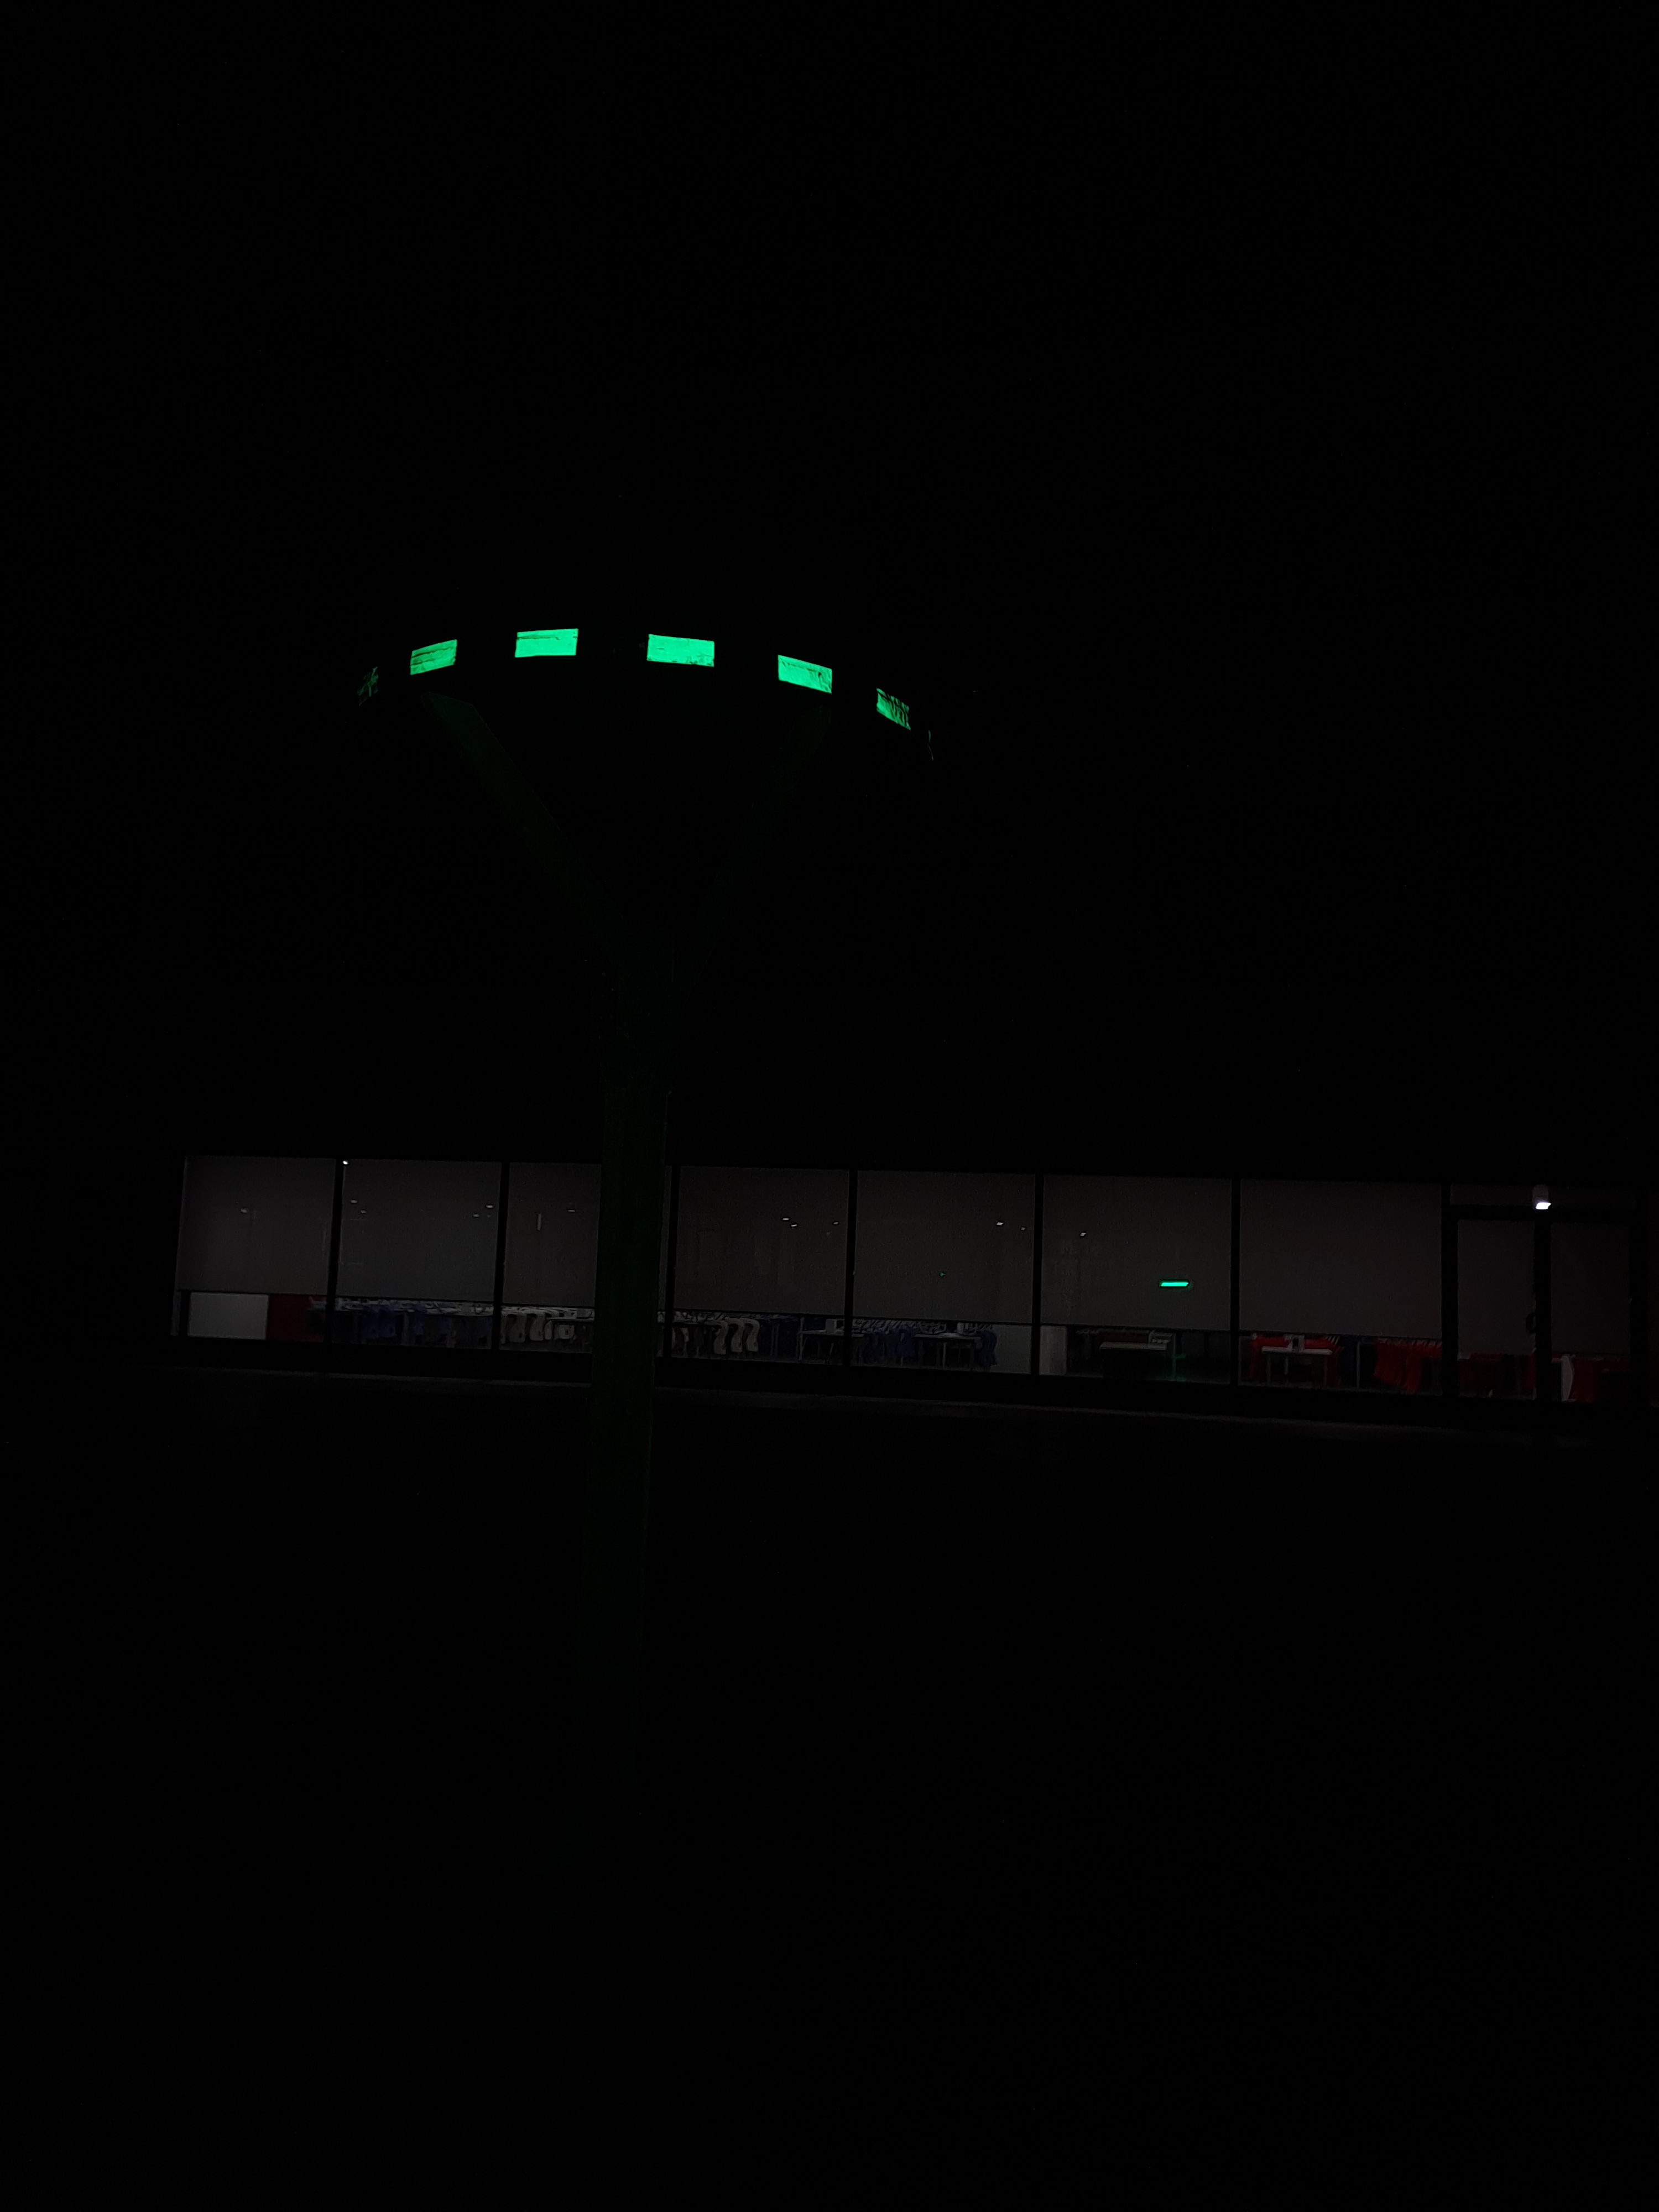hoop: (397, 620, 920, 742)
